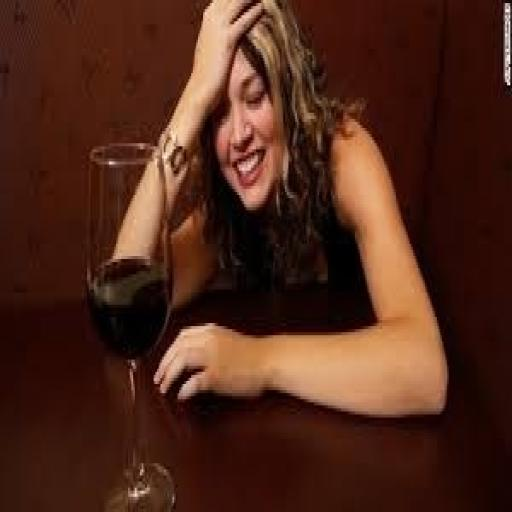laughing: (96, 0, 452, 430)
